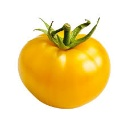tomato: (19, 28, 112, 109)
